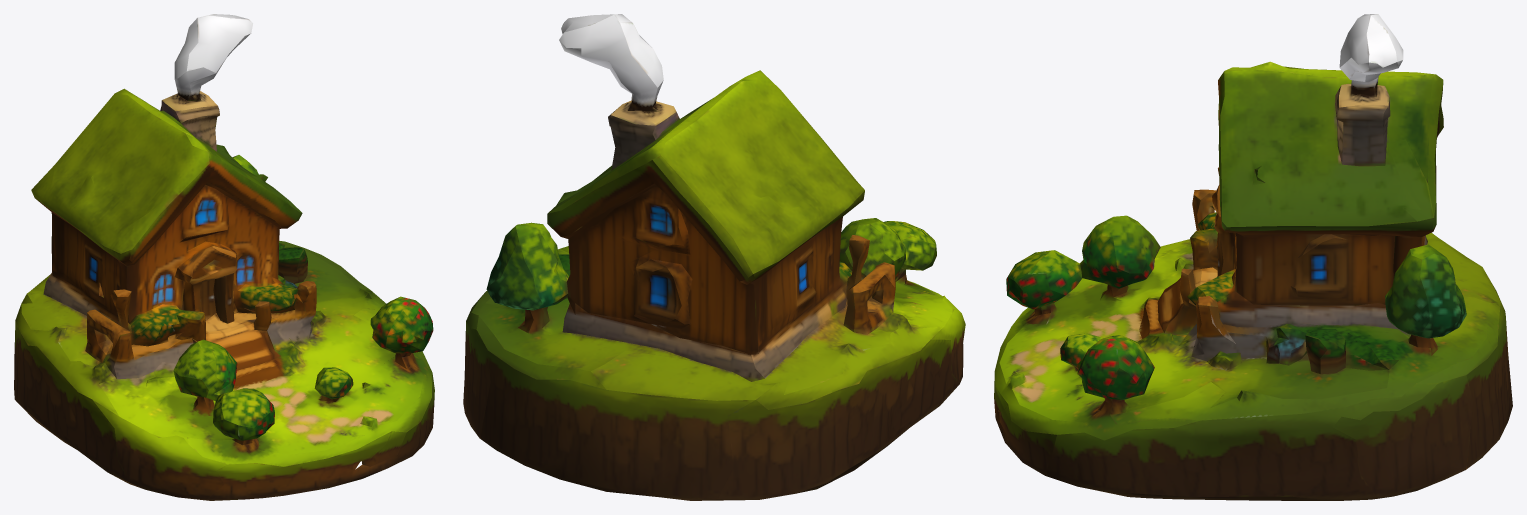
File: house-hilltop-cabin.glb
3 views of the same model, side by side, from view 1: azimuth 30°, elevation 25°; view 2: azimuth 150°, elevation 25°; view 3: azimuth 270°, elevation 25° (orthographic). The views are drawn at different scales.
Visible parts, largest first — view 1: geometry_0; view 2: geometry_0; view 3: geometry_0.
Boxes of the visible parts, bbox=[...] form: geometry_0: bbox=[14, 14, 434, 500]; geometry_0: bbox=[463, 14, 965, 500]; geometry_0: bbox=[994, 14, 1512, 500].
Bounding box in the file's own units: 0.8521 × 0.8885 × 1.
Materials: 1 (1 with a texture image).
